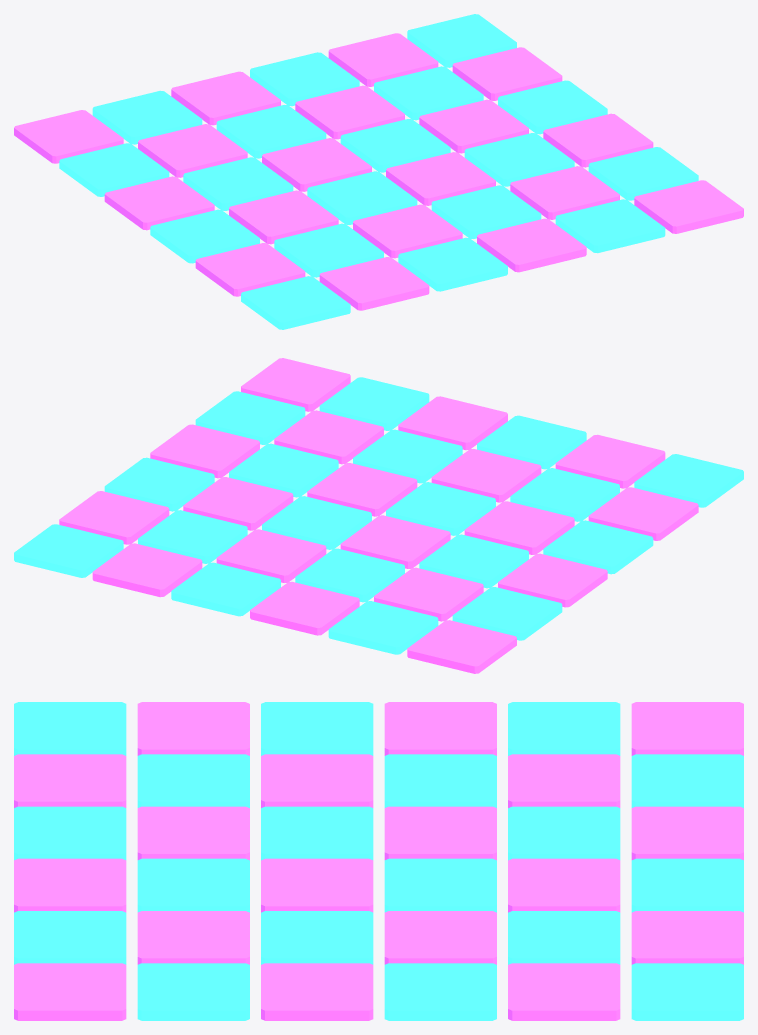
File: disco_floor.fbx
3 renders of one model, top to bottom at view 1: azimuth 30°, elevation 25°; view 2: azimuth 150°, elevation 25°; view 3: azimuth 270°, elevation 25°, orthographic. The views are drawn at different scales.
Parts seen in each view (by area): view 1: Cube.007, Cube.013, Cube.031, Cube.019, Cube.025, Cube.037, Cube.010, Cube.008, Cube.011, Cube.009, Cube.012, Cube.033 (+24 smaller); view 2: Cube.012, Cube.018, Cube.036, Cube.023, Cube.030, Cube.042, Cube.009, Cube.008, Cube.011, Cube.010, Cube.007, Cube.034 (+24 smaller); view 3: Cube.037, Cube.042, Cube.038, Cube.039, Cube.040, Cube.041, Cube.007, Cube.012, Cube.026, Cube.029, Cube.008, Cube.009 (+24 smaller).
Part boxes in pixels (x1,y1,x2,y2): Cube.007: [241, 276, 350, 329]; Cube.013: [319, 257, 429, 310]; Cube.031: [555, 199, 665, 253]; Cube.019: [398, 237, 507, 291]; Cube.025: [477, 218, 586, 272]; Cube.037: [634, 180, 743, 233]; Cube.010: [104, 176, 214, 230]; Cube.008: [195, 243, 305, 296]; Cube.011: [59, 143, 169, 196]; Cube.009: [150, 209, 259, 263]; Cube.012: [14, 110, 123, 163]; Cube.033: [464, 133, 574, 186]; Cube.012: [407, 620, 516, 673]; Cube.018: [328, 601, 438, 654]; Cube.036: [92, 543, 202, 597]; Cube.023: [250, 581, 359, 635]; Cube.030: [171, 562, 280, 616]; Cube.042: [14, 524, 123, 577]; Cube.009: [543, 520, 653, 574]; Cube.008: [588, 487, 698, 540]; Cube.011: [452, 587, 562, 640]; Cube.010: [498, 553, 607, 607]; Cube.007: [634, 454, 743, 507]; Cube.034: [183, 477, 293, 530]; Cube.037: [14, 963, 126, 1020]; Cube.042: [631, 963, 743, 1020]; Cube.038: [137, 963, 249, 1020]; Cube.039: [261, 963, 373, 1020]; Cube.040: [384, 963, 496, 1020]; Cube.041: [508, 963, 620, 1020]; Cube.007: [14, 702, 126, 755]; Cube.012: [631, 702, 743, 755]; Cube.026: [137, 858, 249, 912]; Cube.029: [508, 858, 620, 912]; Cube.008: [137, 702, 249, 755]; Cube.009: [261, 702, 373, 755].
Size of the model in its own units: 325 by 5 by 325.
